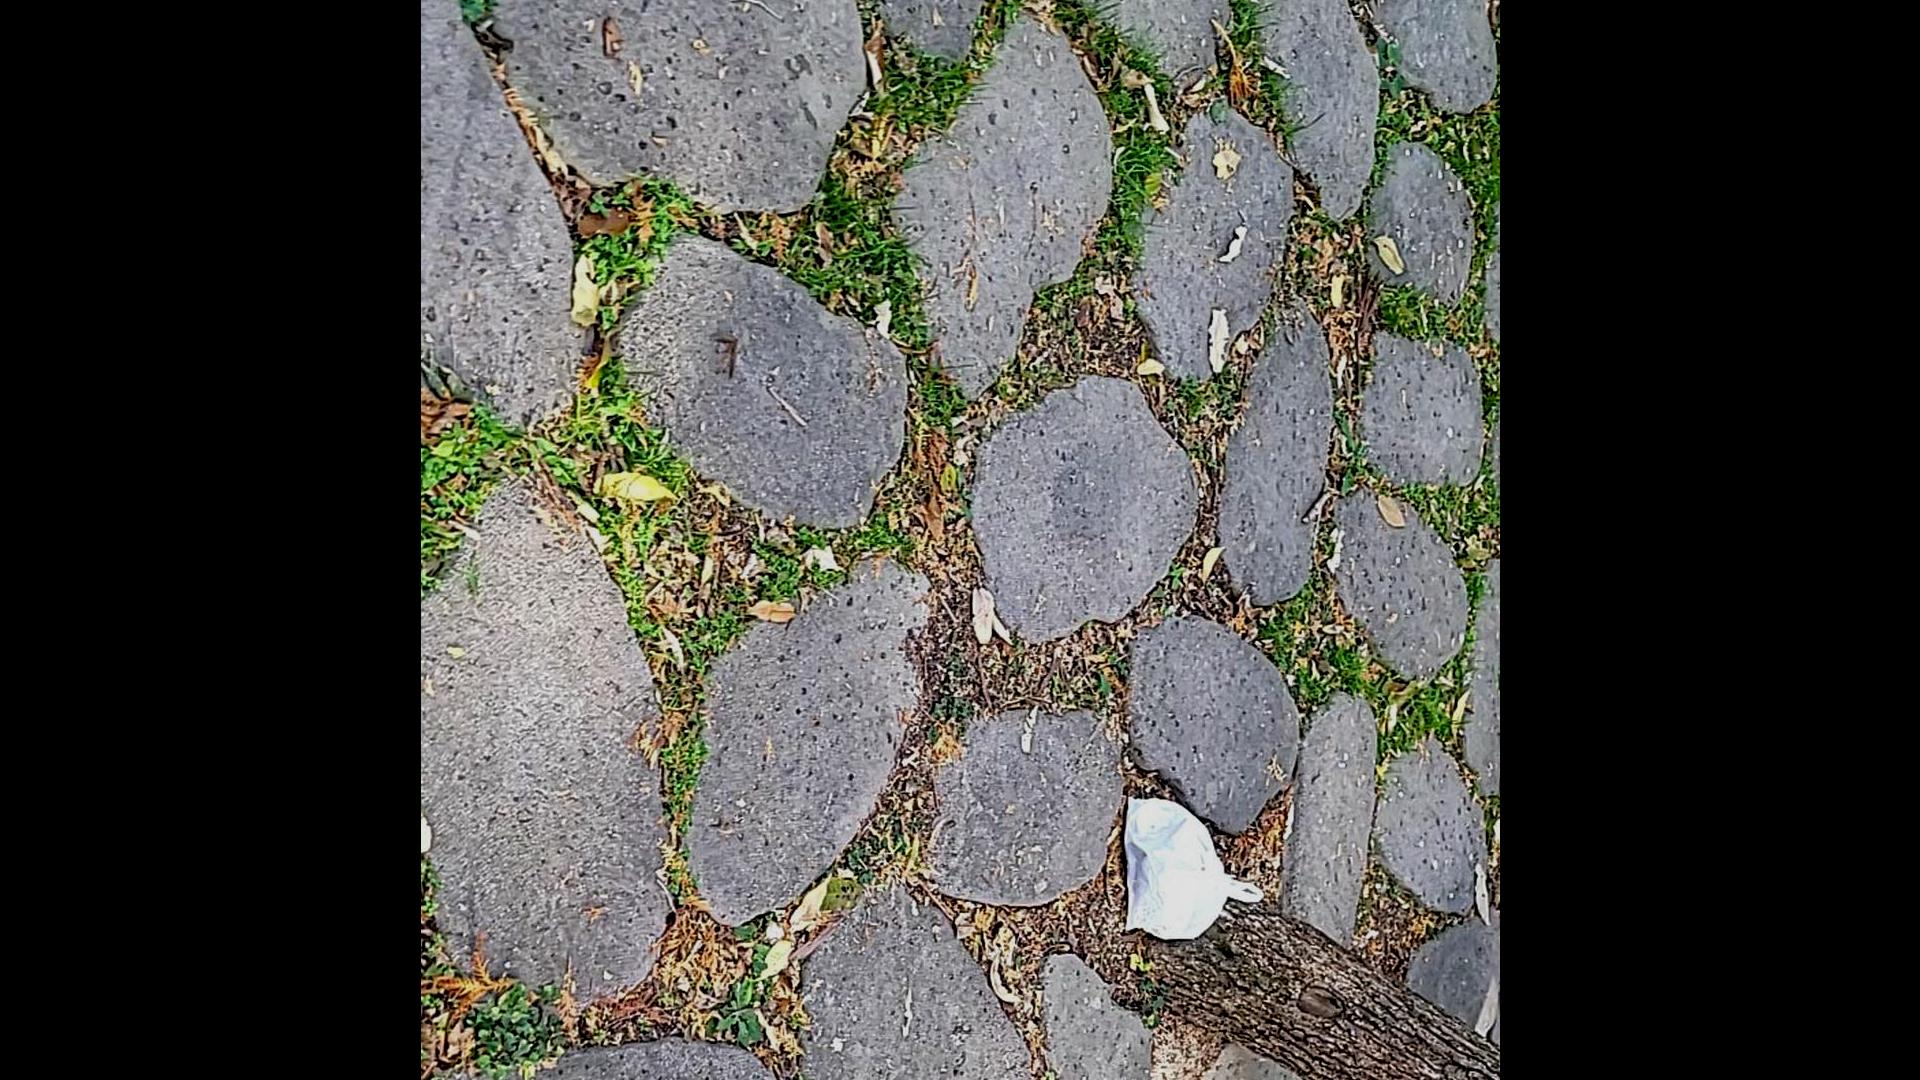white_bag: (1113, 789, 1266, 947)
